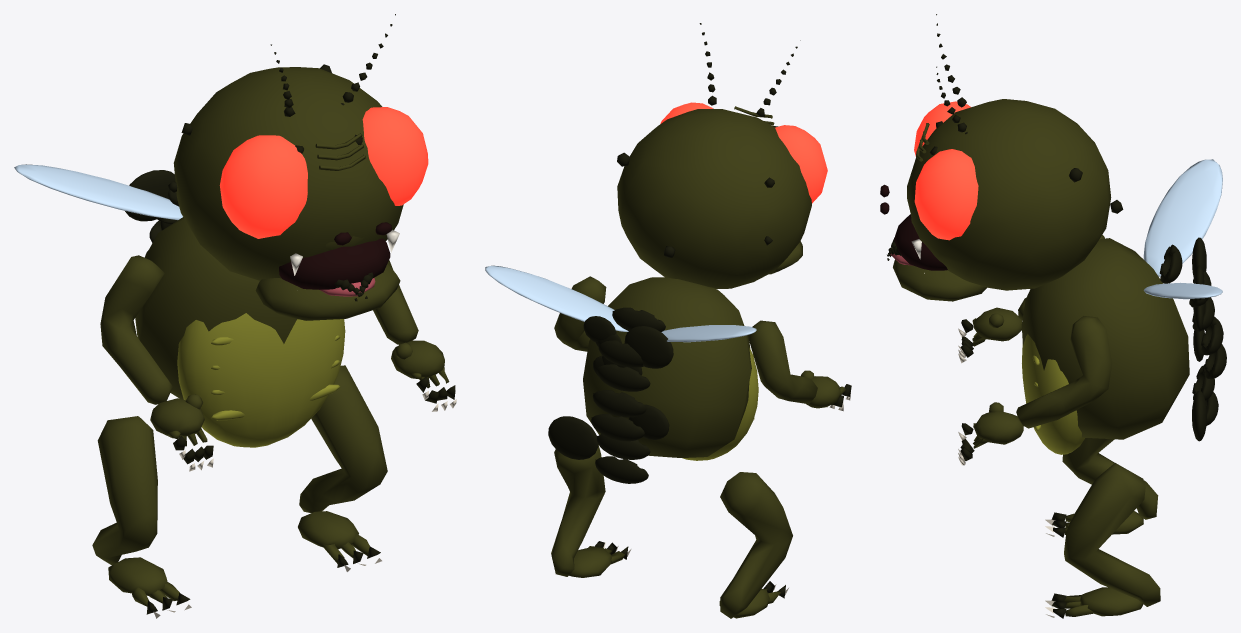
The model's file is svaerm_0.glb.
3 views of the same model, side by side, from view 1: azimuth 30°, elevation 25°; view 2: azimuth 150°, elevation 25°; view 3: azimuth 270°, elevation 25° (orthographic). The views are drawn at different scales.
Parts seen in each view (by area): view 1: hoved_net, krop_net, benH_net, benV_net, armH_net, armV_net; view 2: krop_net, hoved_net, benH_net, benV_net, armH_net, armV_net; view 3: hoved_net, krop_net, benV_net, armV_net, benH_net, armH_net.
Boxes of the visible parts, x1=… form: hoved_net: x1=168, y1=14, x2=428, y2=320; krop_net: x1=14, y1=164, x2=345, y2=447; benH_net: x1=92, y1=416, x2=191, y2=618; benV_net: x1=298, y1=365, x2=387, y2=571; armH_net: x1=100, y1=255, x2=213, y2=471; armV_net: x1=373, y1=260, x2=456, y2=411; krop_net: x1=485, y1=265, x2=758, y2=483; hoved_net: x1=617, y1=23, x2=827, y2=288; benH_net: x1=719, y1=472, x2=792, y2=618; benV_net: x1=551, y1=444, x2=631, y2=577; armH_net: x1=747, y1=320, x2=851, y2=411; armV_net: x1=554, y1=276, x2=606, y2=351; hoved_net: x1=880, y1=14, x2=1123, y2=301; krop_net: x1=1021, y1=159, x2=1226, y2=454; benV_net: x1=1045, y1=463, x2=1160, y2=618; armV_net: x1=958, y1=316, x2=1111, y2=465; benH_net: x1=1045, y1=438, x2=1158, y2=537; armH_net: x1=958, y1=235, x2=1104, y2=363.
Size of the model in its own units: 0.5107 by 0.9204 by 0.5426.
